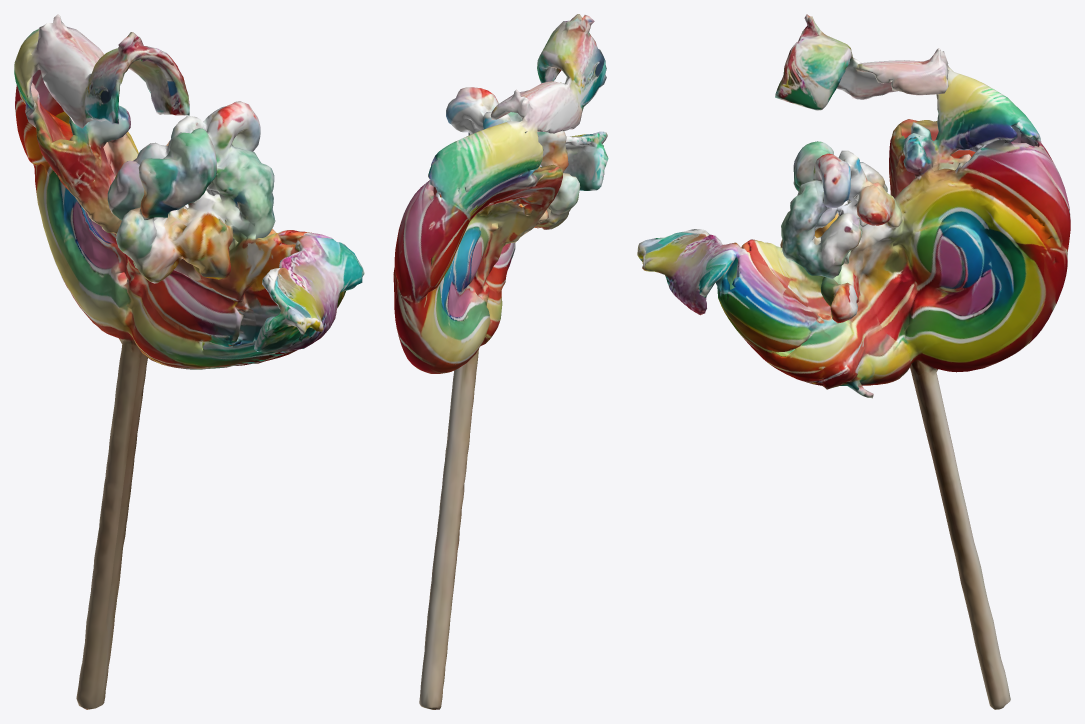
File: icek.glb
3 views of the same model, side by side, from view 1: azimuth 30°, elevation 25°; view 2: azimuth 150°, elevation 25°; view 3: azimuth 270°, elevation 25° (orthographic). The views are drawn at different scales.
Visible parts, largest first — view 1: tripo_node_e97975b0-968f-49f6-8f85-ecc2aac432bf; view 2: tripo_node_e97975b0-968f-49f6-8f85-ecc2aac432bf; view 3: tripo_node_e97975b0-968f-49f6-8f85-ecc2aac432bf.
Boxes of the visible parts, left/top/right/bottom form: tripo_node_e97975b0-968f-49f6-8f85-ecc2aac432bf: left=14, top=14, right=364, bottom=709; tripo_node_e97975b0-968f-49f6-8f85-ecc2aac432bf: left=393, top=14, right=608, bottom=709; tripo_node_e97975b0-968f-49f6-8f85-ecc2aac432bf: left=637, top=14, right=1070, bottom=709.
Size of the model in its own units: 0.2881 by 1 by 0.5932.
Materials: 1 (1 with a texture image).
